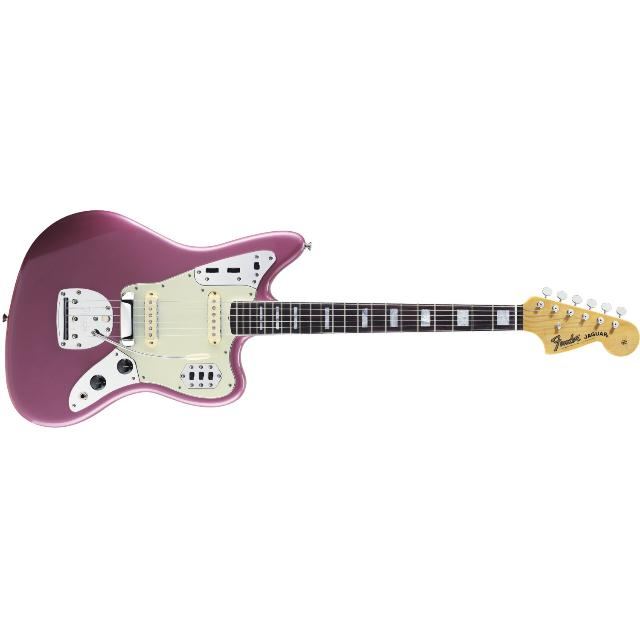Electric-Guitar: (5, 210, 640, 428)
